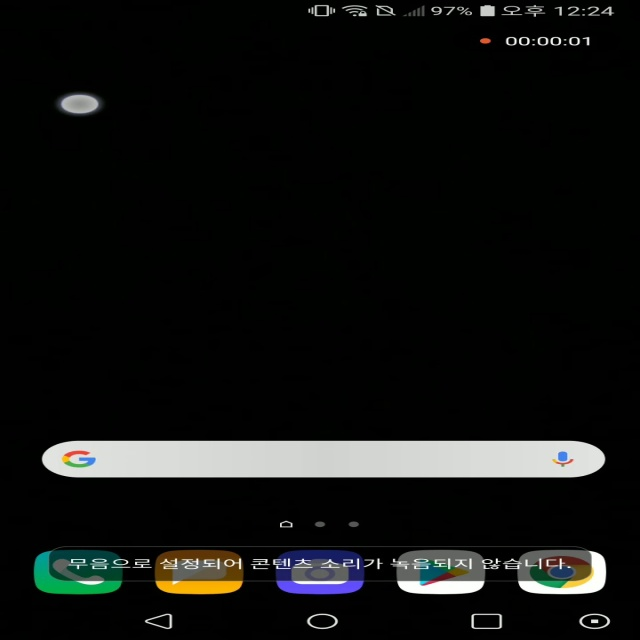Cursor: (56, 93, 101, 116)
